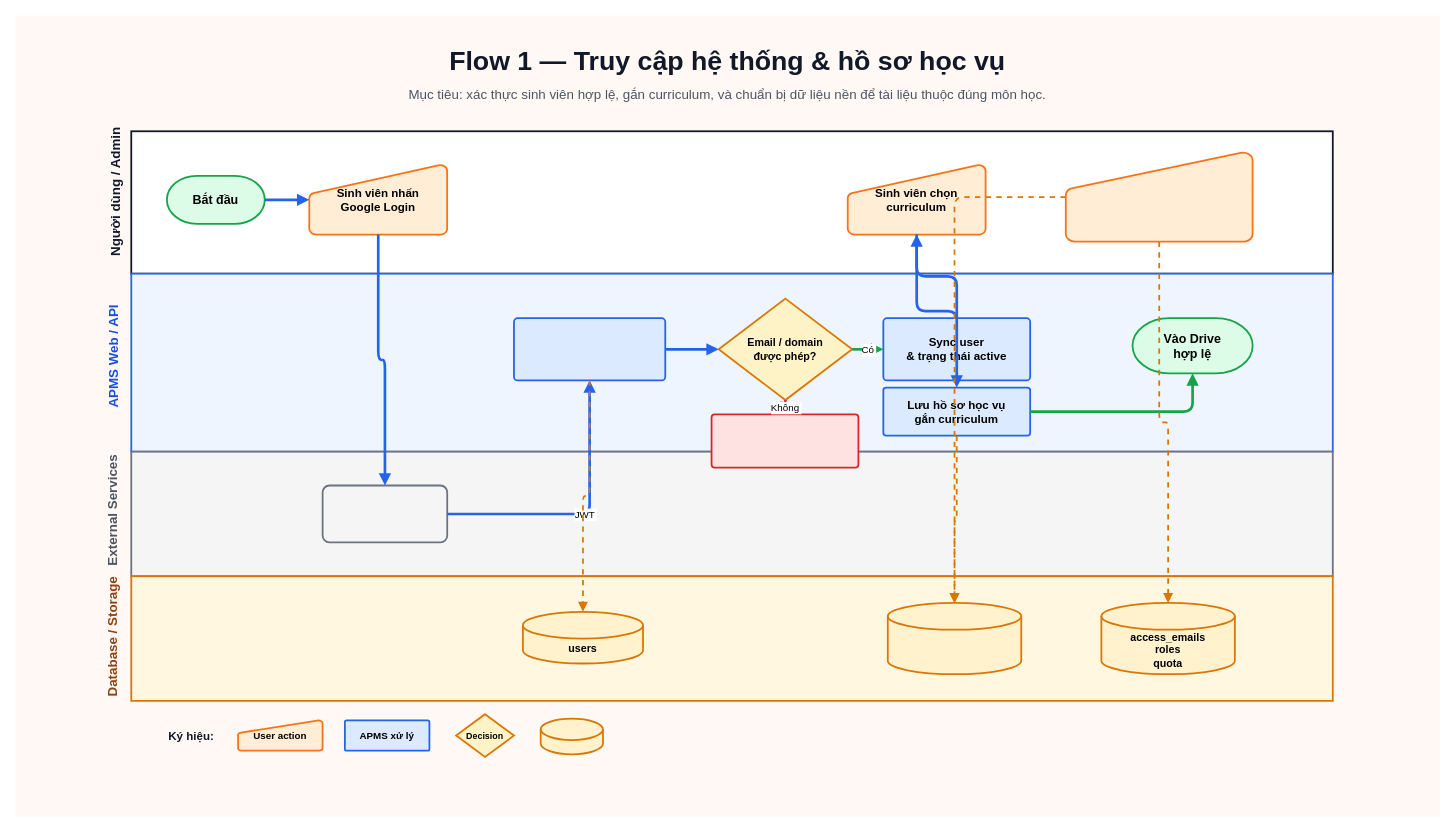
The diagram is 1454 pixels wide and 831 high, and some of its shapes have lost their labels. The shapes that lost their labels are listed below. From the top down, each one's centre as x and y in pixels, then its label:
point (1158, 196): Admin quản lý catalog / quota / user / access email
point (589, 349): Auth API resolve user session
point (784, 440): Từ chối truy cập hiển thị lý do
point (384, 513): Google + Cognito
point (954, 638): curricula subjects course_slots
point (571, 736): Data
